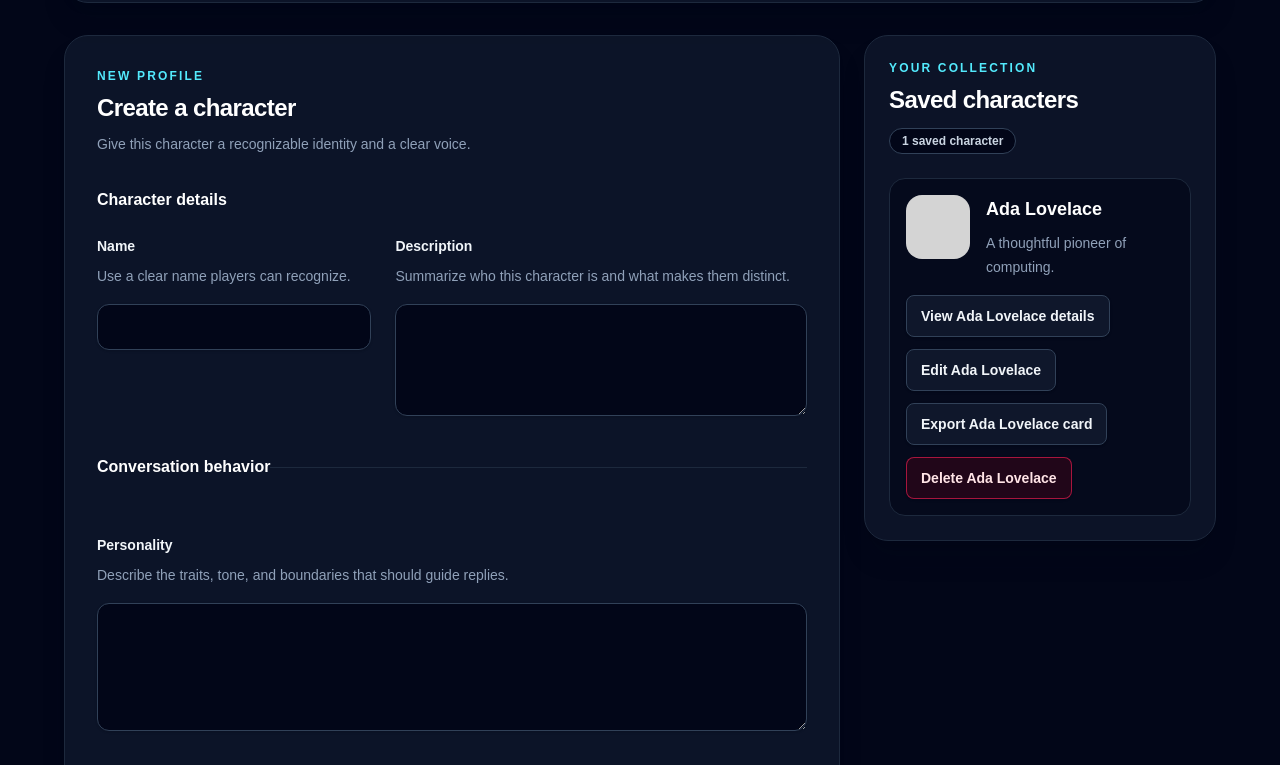
Test: CharacterManagementScreen › edits a saved character and returns to create mode
(page scrolled)
Expected: the heading "Ada Lovelace" is shown, [986, 199, 1102, 219]
Click the button "Edit Ada Lovelace": (981,370) [906, 349, 1056, 391]
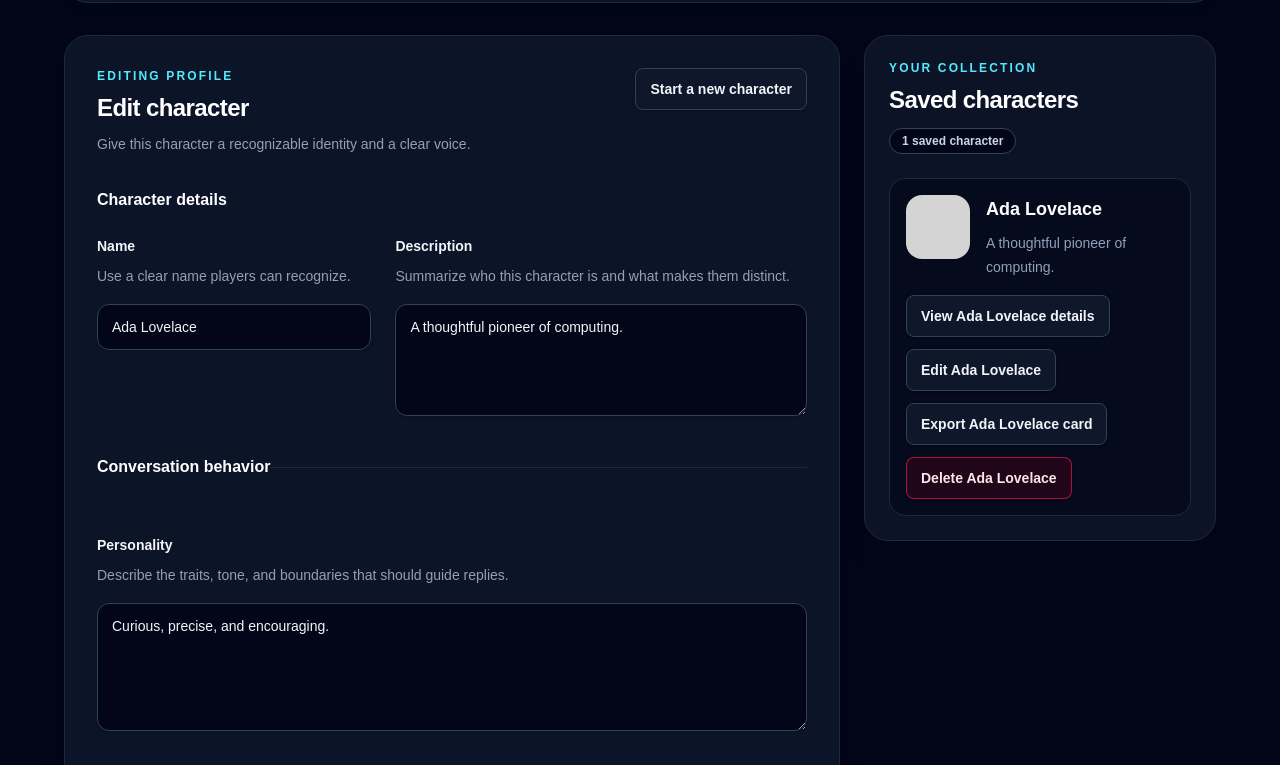
Result: the heading "Edit character" is shown at [97, 94, 249, 121]
Result: the field labelled "Name" holds "Ada Lovelace"
Replace the text in the field labelled "Name" with "Ada Byron": (234,327) [97, 304, 371, 350]
(page scrolled)
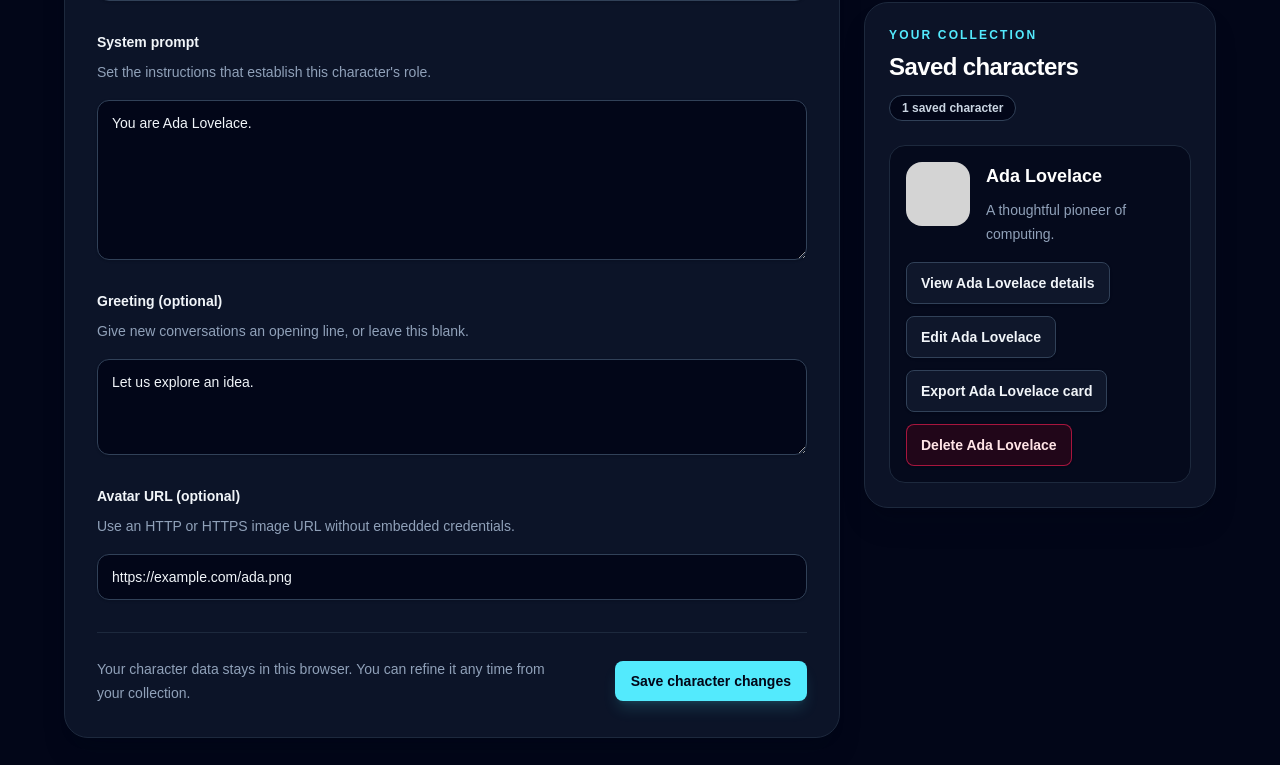
Replace the text in the field labelled "Avatar URL (optional)" with "https://example.com/ada-byron.png": (452,577) [97, 554, 807, 600]
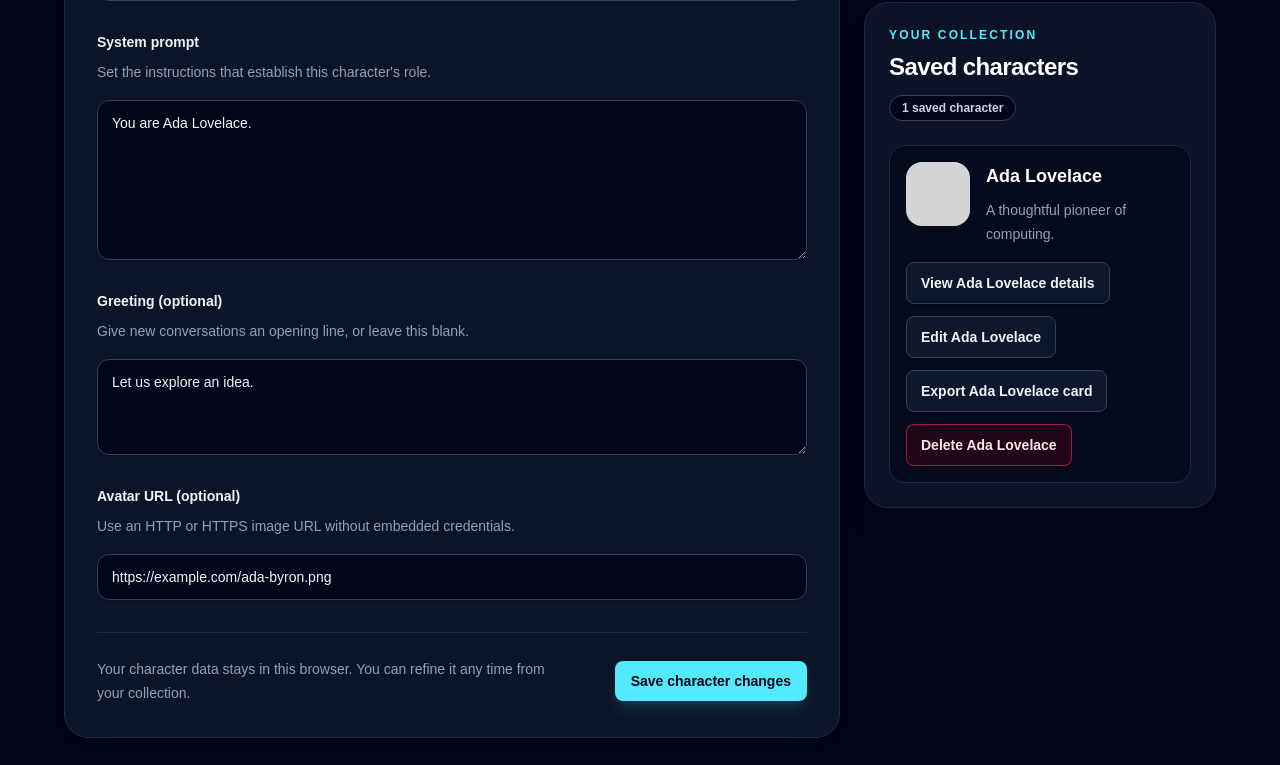
Click the button "Save character changes": (711,681) [615, 661, 807, 701]
(page scrolled)
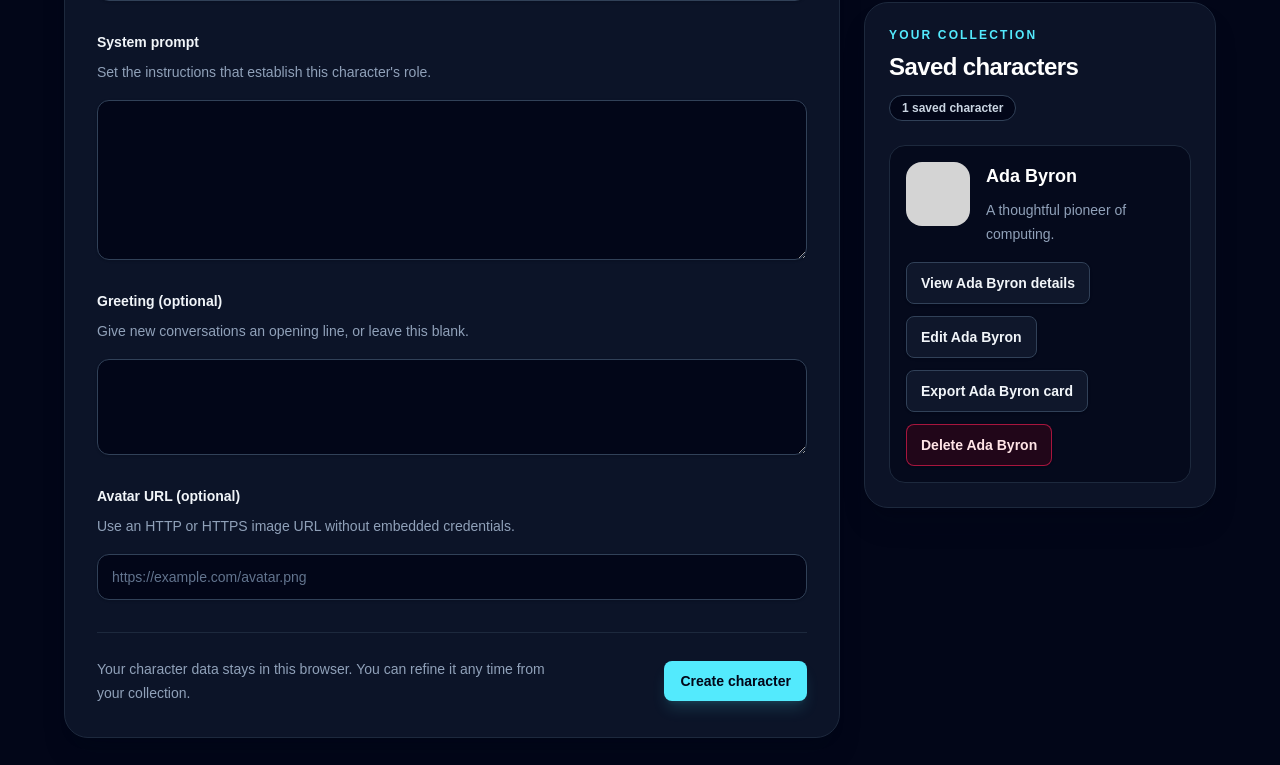
Result: the heading "Ada Byron" is shown at [986, 166, 1077, 186]
Result: the heading "Ada Lovelace" is gone
